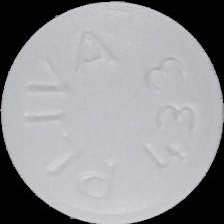50111-433: (0, 0, 224, 224)
